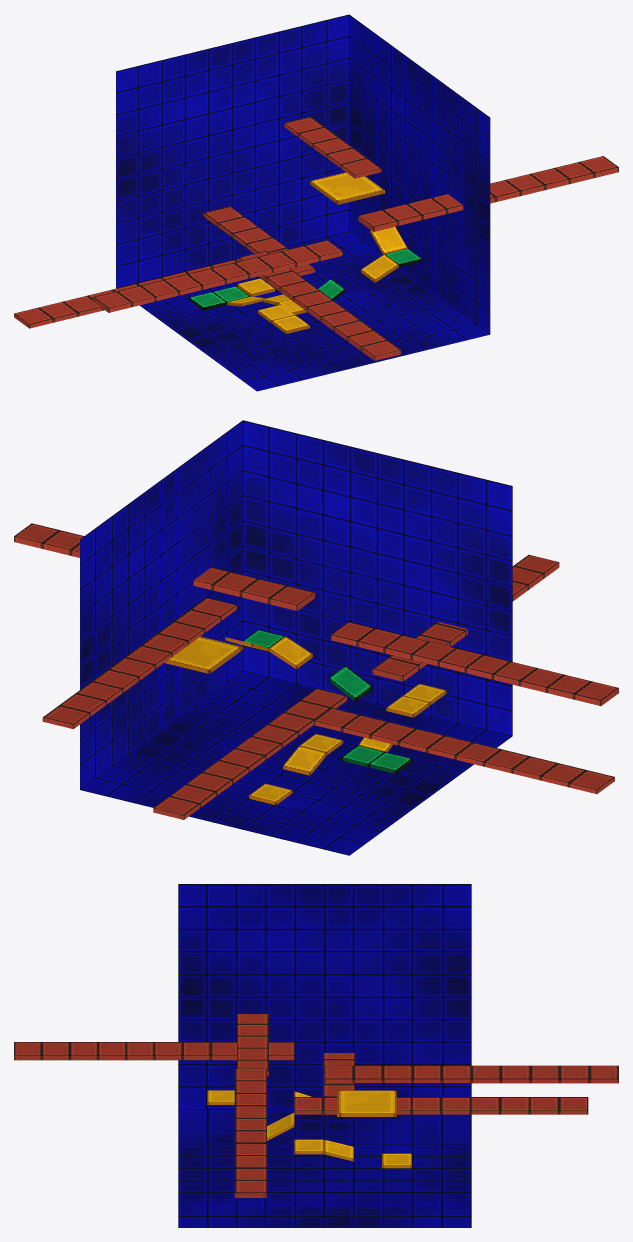
3 views of the same model, one above another, from view 1: azimuth 30°, elevation 25°; view 2: azimuth 150°, elevation 25°; view 3: azimuth 270°, elevation 25° (orthographic). The views are drawn at different scales.
Parts seen in each view (by area): view 1: Box01; view 2: Box01; view 3: Box01.
Boxes of the visible parts, x1,y1,x2,y2 form: Box01: (14,14,618,391); Box01: (14,420,618,855); Box01: (14,884,618,1227).
Bounding box in the file's own units: 20576 × 7794 × 18954.
4 materials, 4 textured.
